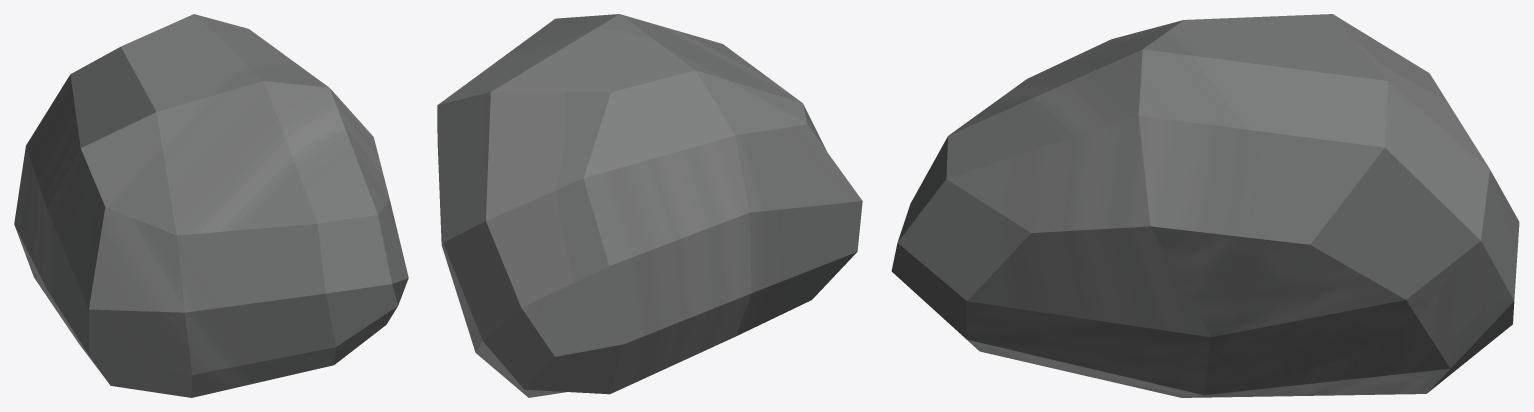
Rendered from Rocha2.fbx.
3 renders of one model, left to right at view 1: azimuth 30°, elevation 25°; view 2: azimuth 150°, elevation 25°; view 3: azimuth 270°, elevation 25°, orthographic. The views are drawn at different scales.
Visible parts, largest first — view 1: Rock1; view 2: Rock1; view 3: Rock1.
Boxes of the visible parts, left/top/right/bottom form: Rock1: left=14, top=14, right=408, bottom=397; Rock1: left=437, top=14, right=862, bottom=397; Rock1: left=891, top=14, right=1519, bottom=397.
Size of the model in its own units: 134 by 115 by 182.
